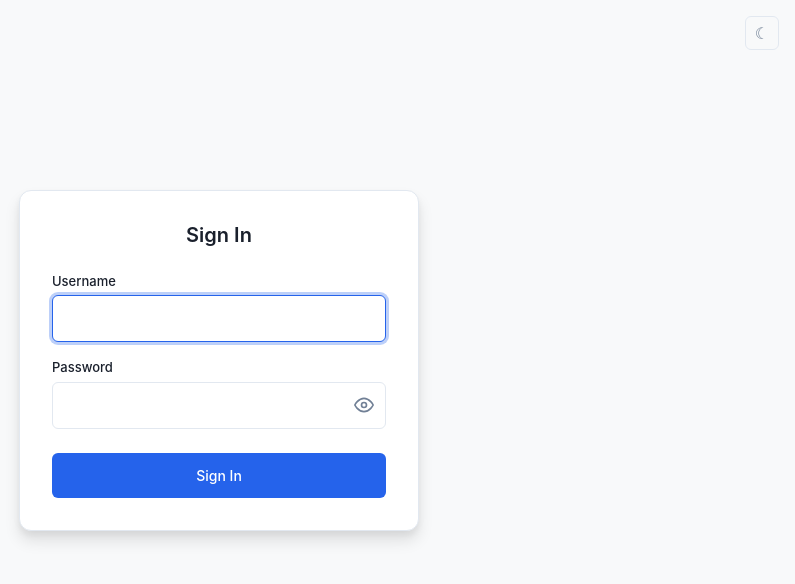
LoginForm › surfaces the error message when login fails
In the field labelled "Username": (219, 318) [52,295,386,342], type "a"
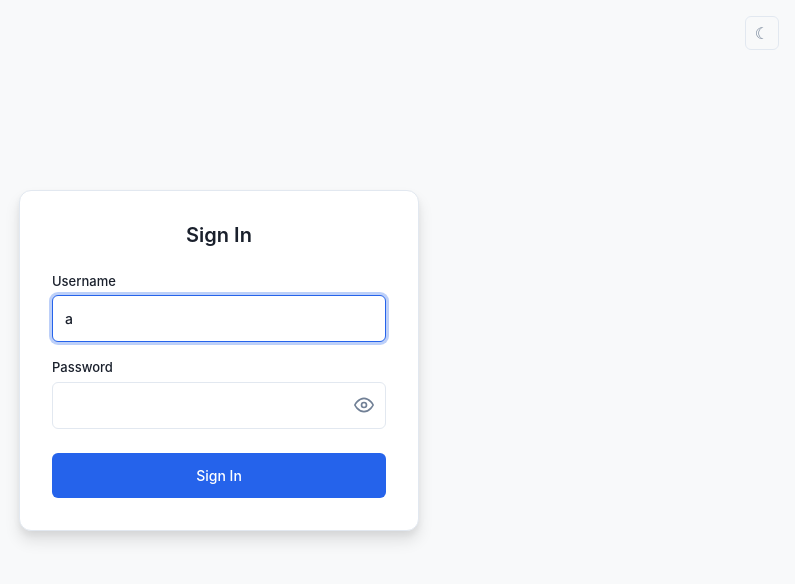
In the password field labelled "Password": (219, 405) [52,382,386,428], type "b"
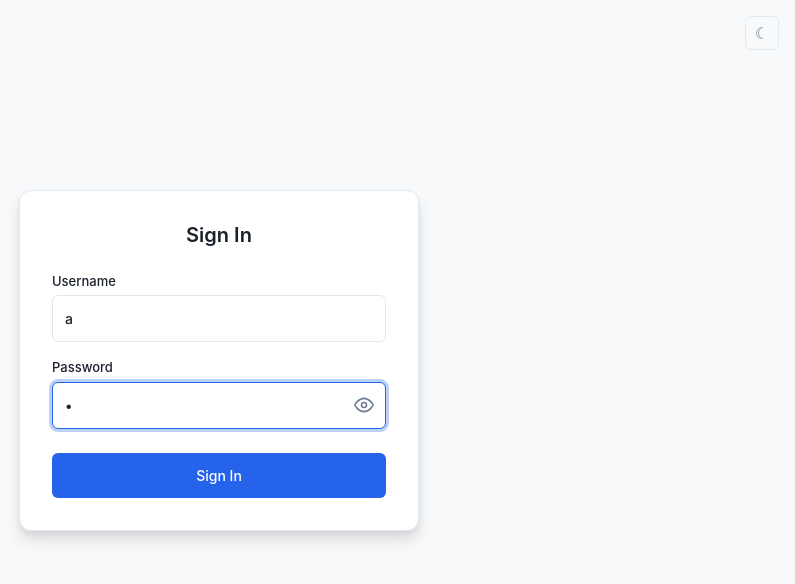
Click the button "Sign In": (219, 475) [52,452,386,498]
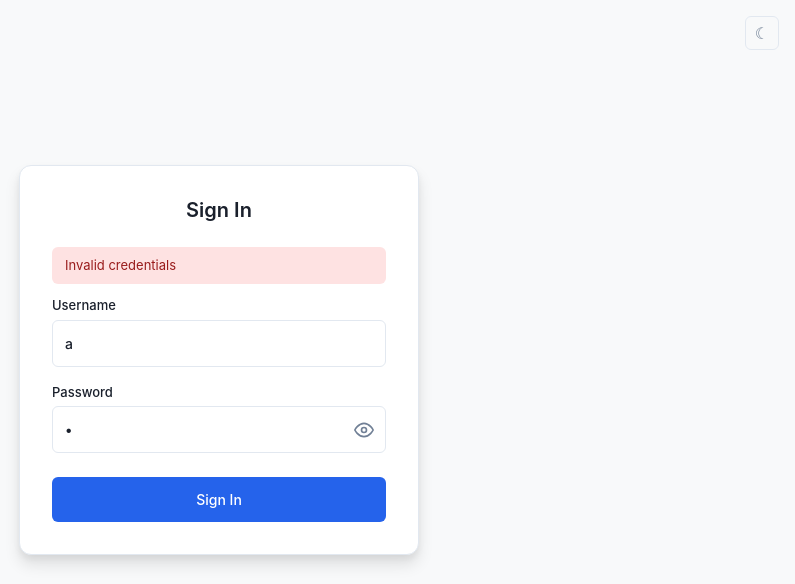
Check: the message reads "Invalid credentials", box [65,257,176,273]
